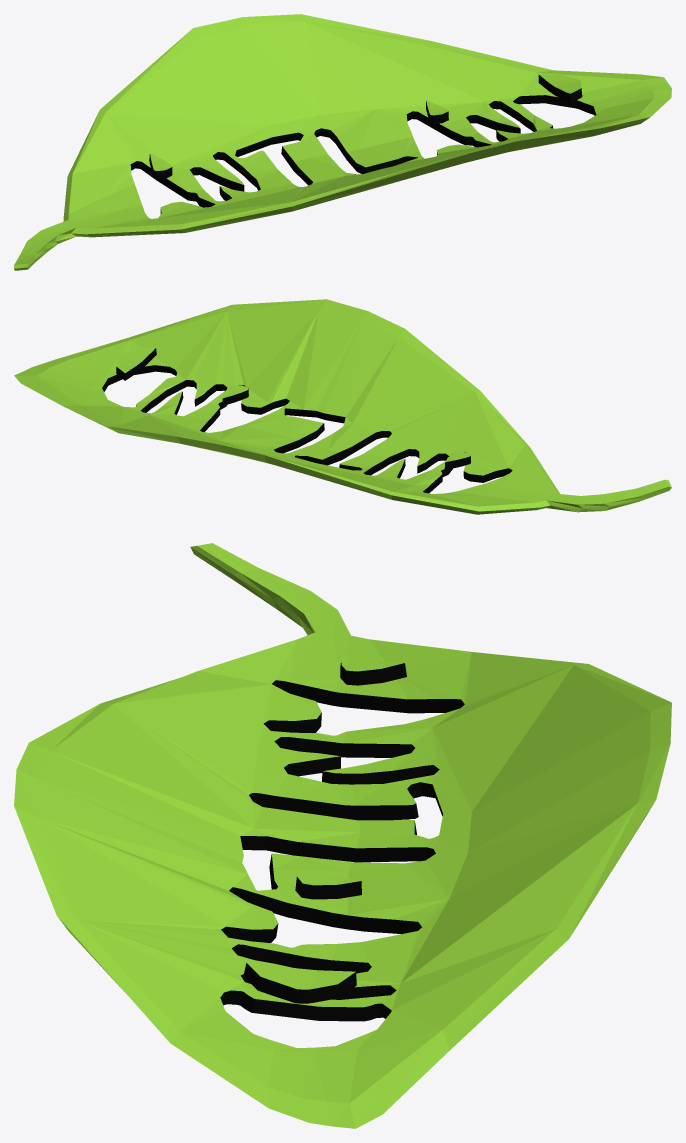
The model's file is antworld_banner.FBX.
3 views of the same model, one above another, from view 1: azimuth 30°, elevation 25°; view 2: azimuth 150°, elevation 25°; view 3: azimuth 270°, elevation 25° (orthographic). The views are drawn at different scales.
Parts seen in each view (by area): view 1: Box009; view 2: Box009; view 3: Box009.
Boxes of the visible parts, x1,y1,x2,y2 form: Box009: [14, 14, 671, 270]; Box009: [14, 299, 671, 514]; Box009: [14, 543, 671, 1128].
Size of the model in its own units: 1432 by 150 by 703.
